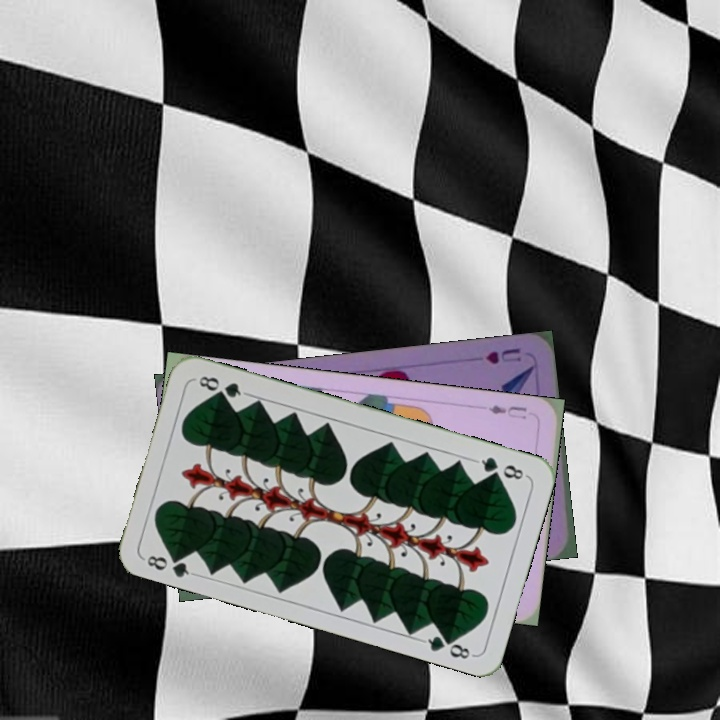EU: (485, 401, 529, 422)
G8: (143, 548, 198, 580), (471, 453, 529, 483)
HU: (481, 344, 524, 367)
